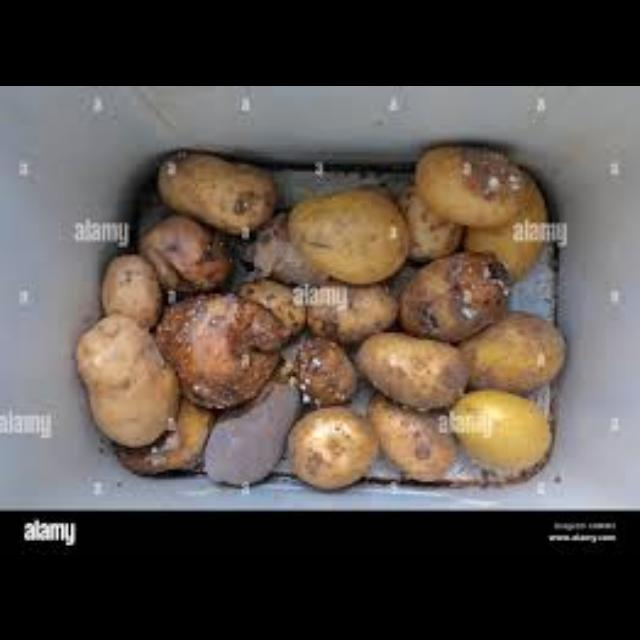Defected potato: (200, 366, 306, 492)
Diseased-fungal potato: (154, 290, 288, 416), (76, 308, 184, 450), (380, 240, 510, 338), (290, 186, 410, 288), (147, 144, 280, 236), (409, 136, 535, 232), (452, 301, 566, 389), (136, 202, 228, 306), (357, 386, 461, 478), (278, 397, 377, 487), (288, 267, 402, 345), (358, 325, 466, 407), (274, 322, 356, 402), (96, 238, 160, 338), (279, 326, 363, 402), (235, 276, 311, 338)
Potato: (442, 380, 554, 476)
